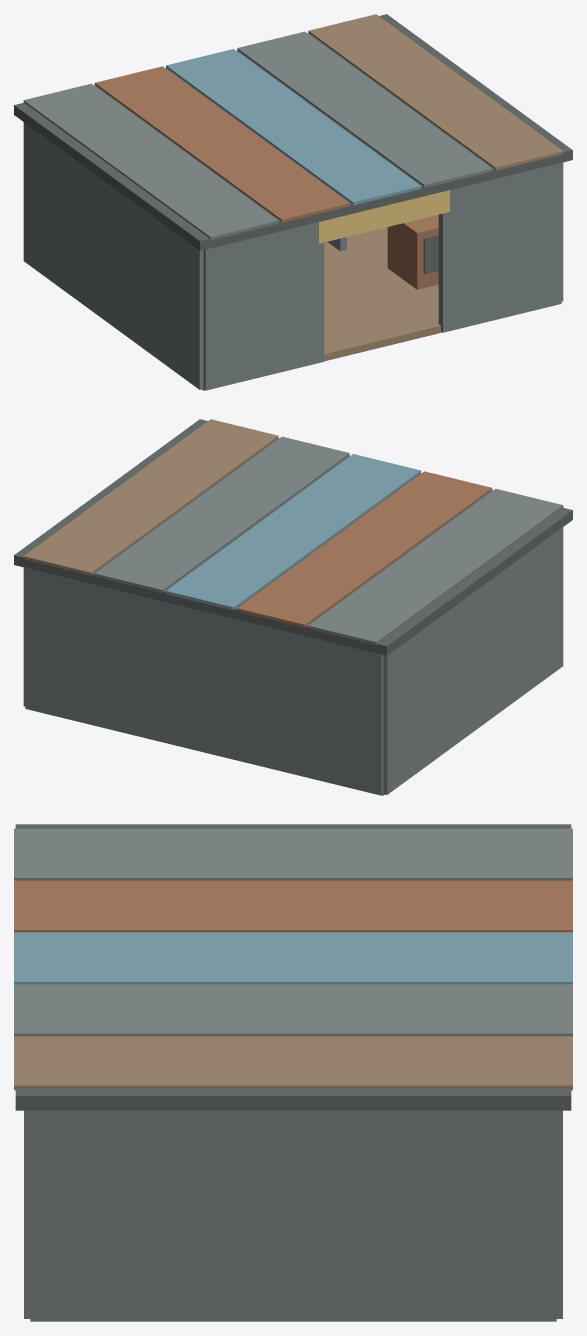
The model's file is settlement_workshop.glb.
3 renders of one model, top to bottom at view 1: azimuth 30°, elevation 25°; view 2: azimuth 150°, elevation 25°; view 3: azimuth 270°, elevation 25°, orthographic. The views are drawn at different scales.
Visible parts, largest first — view 1: WALL_side.002, WALL_front.003, WALL_front.002, patched roof sheet.005, patched roof sheet.009, patched roof sheet.008, patched roof sheet.006, patched roof sheet.007, FLOOR_plate.001, roof frame.001, wide sliding doorway, generator carcass (+1 smaller); view 2: WALL_back.001, WALL_side.002, patched roof sheet.005, patched roof sheet.009, patched roof sheet.008, patched roof sheet.006, patched roof sheet.007, roof frame.001; view 3: WALL_side.003, patched roof sheet.009, patched roof sheet.005, patched roof sheet.006, patched roof sheet.007, patched roof sheet.008, roof frame.001, WALL_back.001, WALL_front.003.
Part boxes in pixels (x1,y1,x2,y2): WALL_side.002: [23, 122, 203, 389]; WALL_front.003: [438, 163, 561, 332]; WALL_front.002: [203, 222, 324, 390]; patched roof sheet.005: [23, 83, 278, 240]; patched roof sheet.009: [308, 14, 563, 170]; patched roof sheet.008: [237, 31, 492, 187]; patched roof sheet.006: [94, 66, 349, 222]; patched roof sheet.007: [166, 49, 420, 205]; FLOOR_plate.001: [202, 227, 442, 390]; roof frame.001: [14, 14, 572, 250]; wide sliding doorway: [318, 190, 449, 243]; generator carcass: [387, 214, 438, 289]; WALL_back.001: [25, 568, 383, 795]; WALL_side.002: [383, 527, 563, 794]; patched roof sheet.005: [308, 488, 563, 645]; patched roof sheet.009: [23, 419, 278, 575]; patched roof sheet.008: [94, 436, 349, 592]; patched roof sheet.006: [237, 471, 492, 627]; patched roof sheet.007: [166, 454, 420, 610]; roof frame.001: [14, 419, 572, 655]; WALL_side.003: [30, 1110, 556, 1321]; patched roof sheet.009: [14, 1036, 572, 1090]; patched roof sheet.005: [14, 828, 572, 880]; patched roof sheet.006: [14, 880, 572, 932]; patched roof sheet.007: [14, 932, 572, 984]; patched roof sheet.008: [14, 984, 572, 1036]; roof frame.001: [15, 824, 571, 1110]; WALL_back.001: [556, 1110, 562, 1318]; WALL_front.003: [24, 1110, 30, 1318].
Size of the model in its own units: 8.8 by 3.55 by 7.65.
